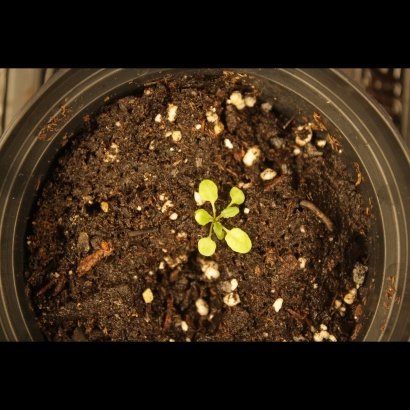leaf: (194, 171, 225, 210), (224, 226, 257, 260), (193, 236, 218, 263), (190, 205, 217, 229), (226, 184, 251, 207), (209, 221, 232, 244), (220, 201, 243, 224)
